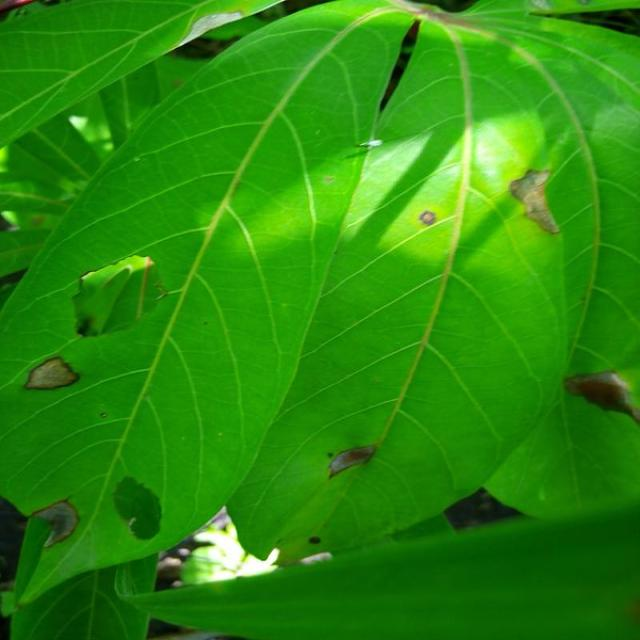cassava leaf: (2, 1, 640, 634)
